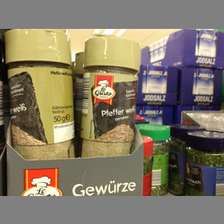spices: (4, 29, 76, 160), (80, 35, 138, 157), (185, 131, 224, 195)
